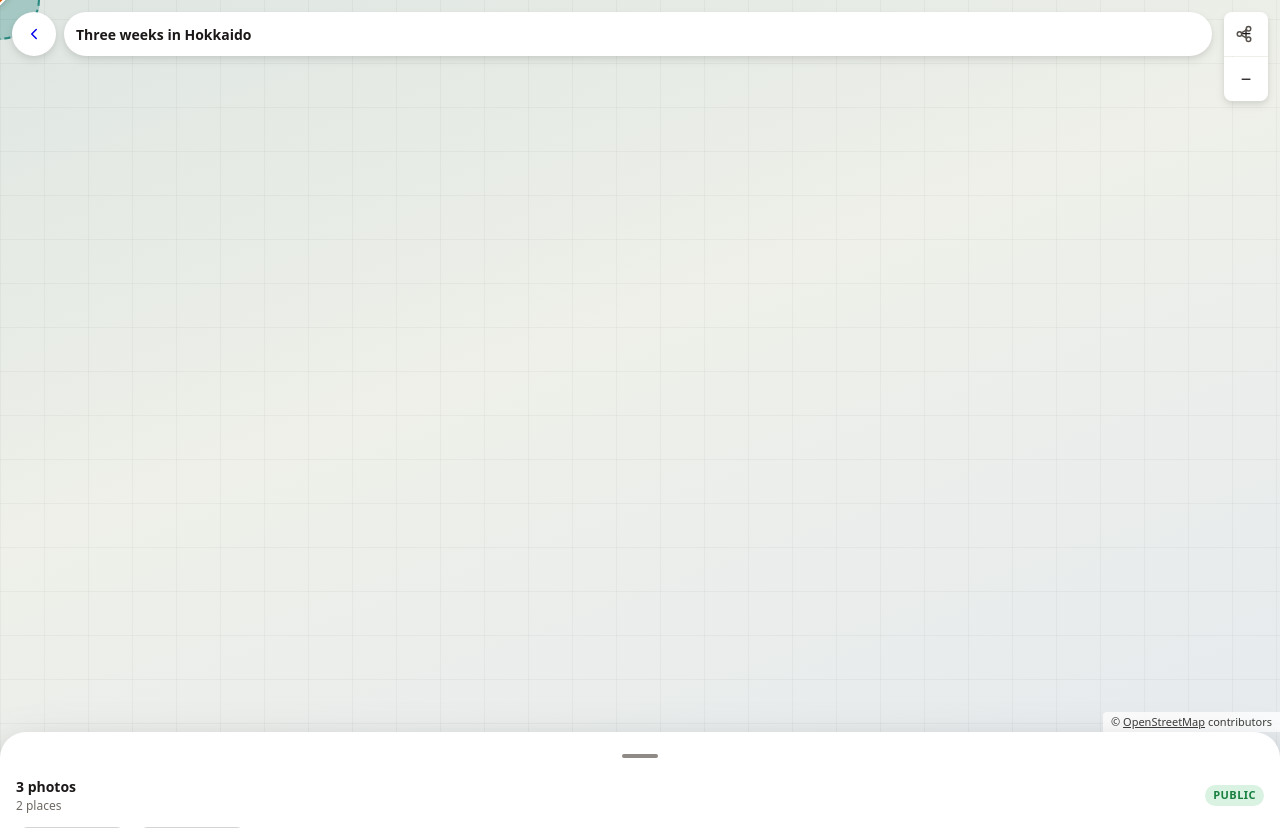
Test: opens a share dialog for anonymous visitors and returns focus on close (desktop=false)
Click the button named "Share voyage" at (1244, 34), box [1220,12,1268,56]
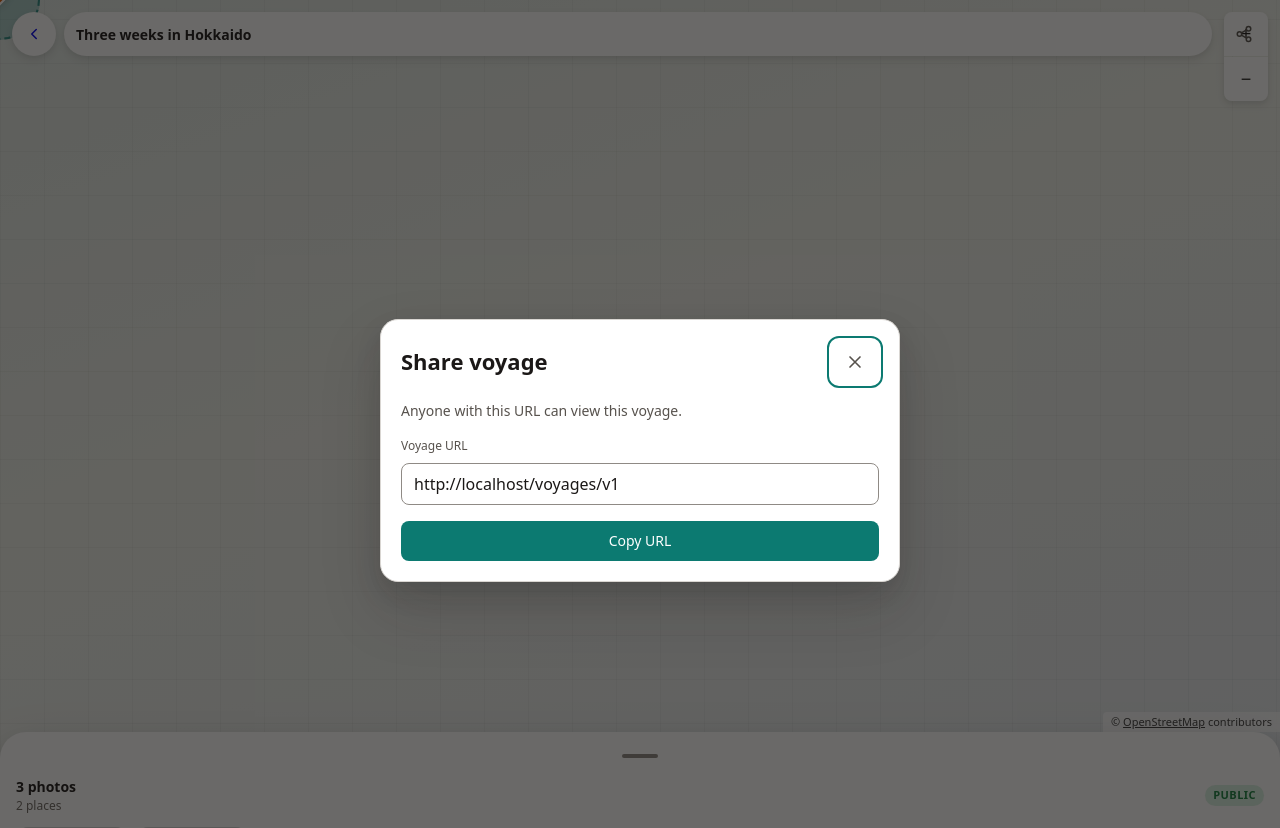
Click the button named "Close share dialog" at (855, 362), box [831,340,879,384]
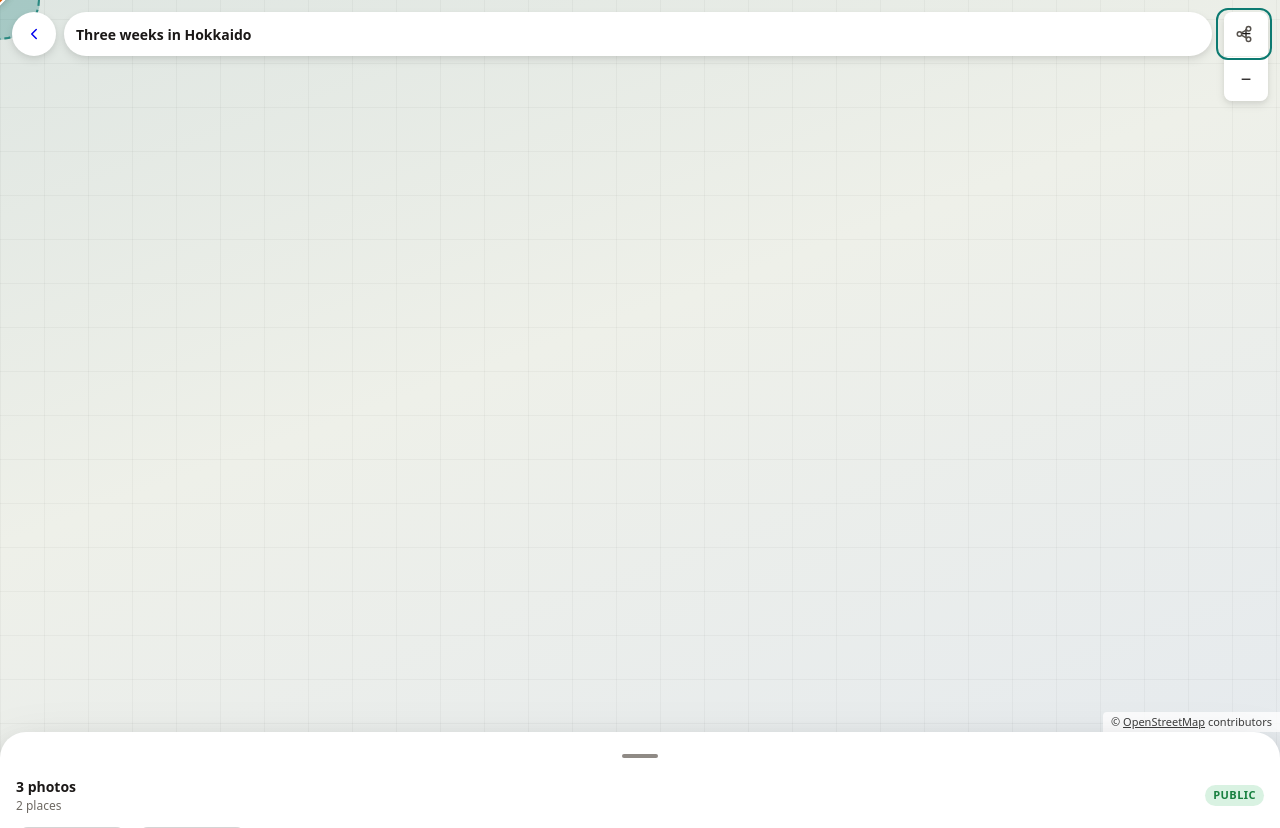
Result: the heading "Share voyage" is gone
